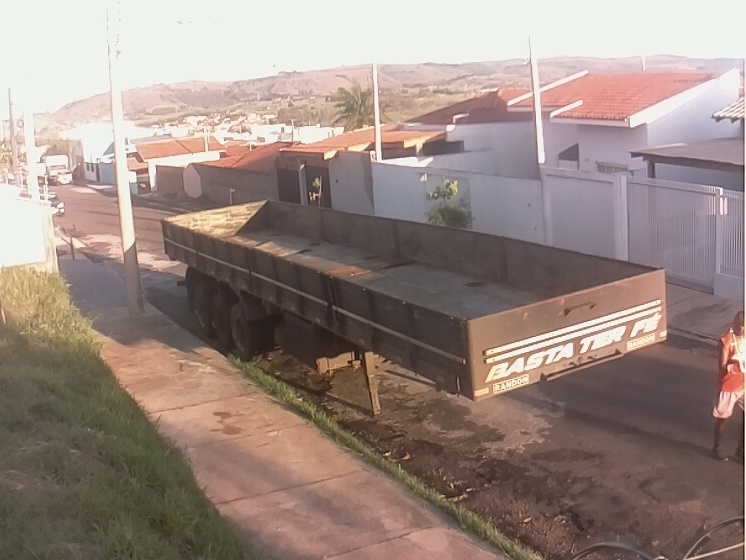person: (709, 308, 746, 467)
